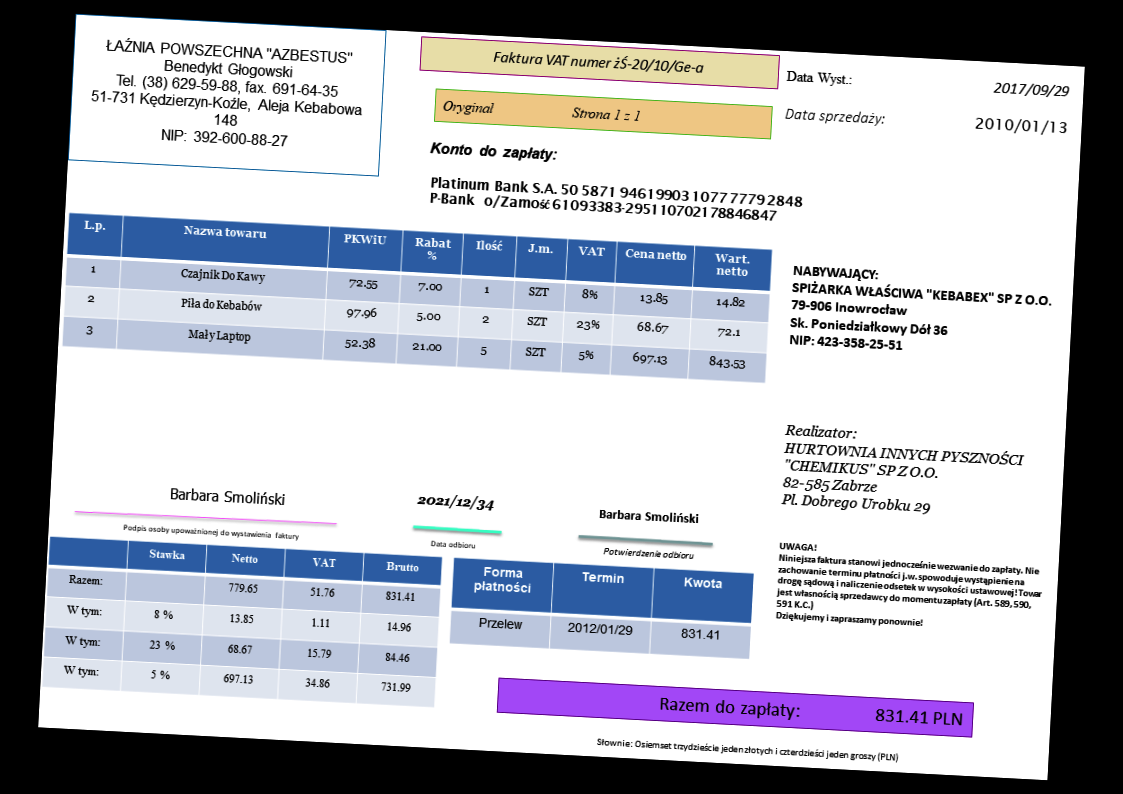Table: (61, 212, 773, 384), (41, 535, 444, 708), (448, 555, 756, 661)
TextBox: (86, 33, 368, 154), (774, 540, 1046, 637), (787, 263, 1055, 361), (779, 420, 1028, 520), (427, 173, 806, 226), (656, 693, 966, 731), (593, 735, 902, 766), (490, 48, 707, 76), (440, 97, 644, 126), (120, 521, 302, 543), (428, 138, 561, 165), (168, 484, 288, 508), (782, 105, 887, 128), (973, 114, 1068, 139), (596, 506, 701, 526), (415, 490, 496, 515), (990, 78, 1071, 100), (600, 545, 695, 562), (784, 67, 853, 90), (429, 538, 477, 550)
